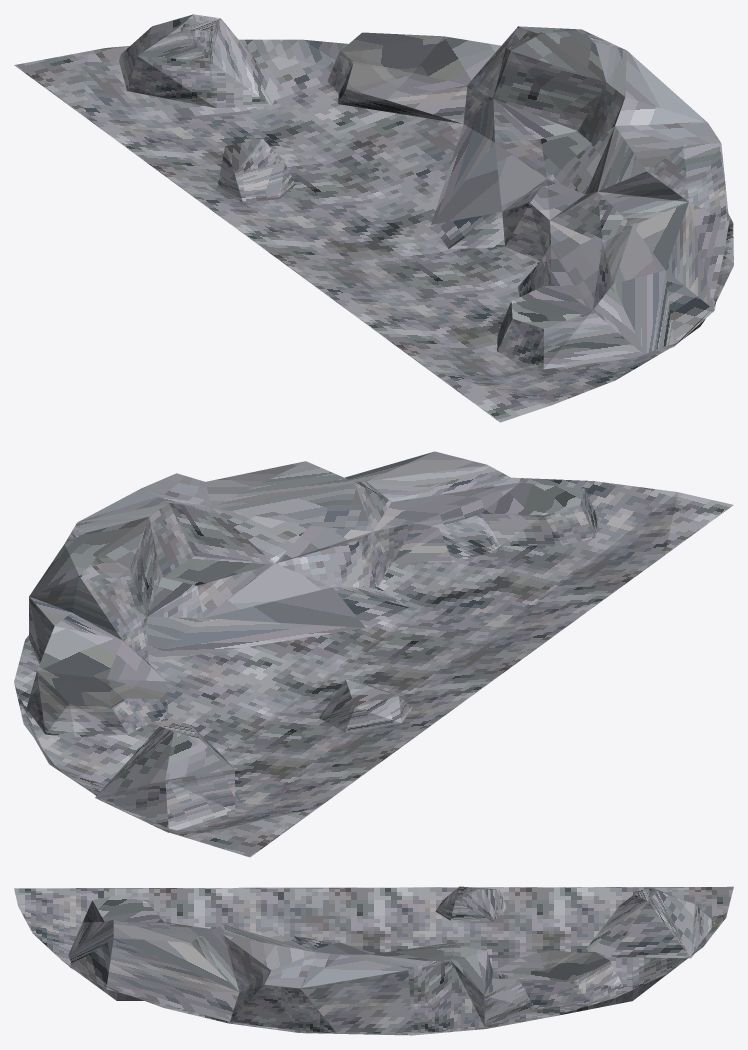
Rendered from lodagebuild02.obj.
3 renders of one model, top to bottom at view 1: azimuth 30°, elevation 25°; view 2: azimuth 150°, elevation 25°; view 3: azimuth 270°, elevation 25°, orthographic. The views are drawn at different scales.
Parts seen in each view (by area): view 1: lodagebuild02; view 2: lodagebuild02; view 3: lodagebuild02.
Boxes of the visible parts, x1=… form: lodagebuild02: x1=14, y1=14, x2=733, y2=422; lodagebuild02: x1=14, y1=451, x2=733, y2=857; lodagebuild02: x1=14, y1=886, x2=733, y2=1035.
Size of the model in its own units: 45.03 by 12.73 by 92.13.
Materials: 1 (1 with a texture image).
